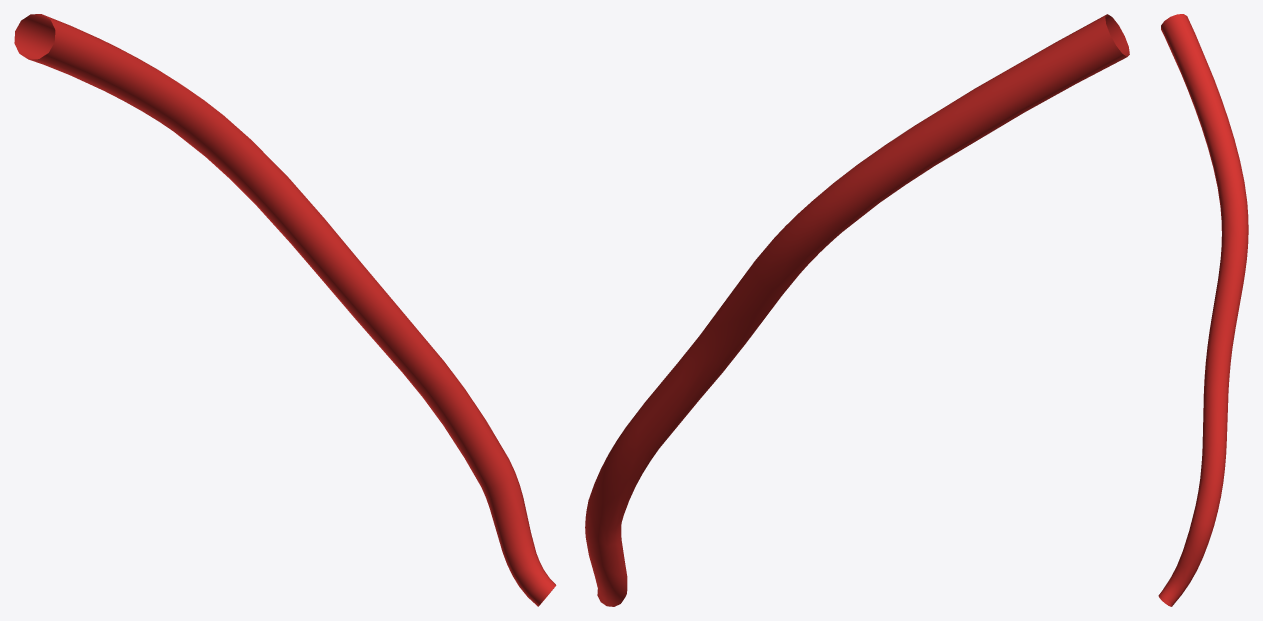
Rendered from circulatorio-lateral-tarsal-artery-l.glb.
The picture shows the model from 3 angles, left to right: view 1: azimuth 30°, elevation 25°; view 2: azimuth 150°, elevation 25°; view 3: azimuth 270°, elevation 25°; orthographic projection. The views are drawn at different scales.
Parts seen in each view (by area): view 1: Lateral tarsal artery.l; view 2: Lateral tarsal artery.l; view 3: Lateral tarsal artery.l.
Boxes of the visible parts, x1=… form: Lateral tarsal artery.l: x1=14, y1=14, x2=556, y2=606; Lateral tarsal artery.l: x1=585, y1=14, x2=1129, y2=606; Lateral tarsal artery.l: x1=1158, y1=14, x2=1248, y2=606.
Bounding box in the file's own units: 0.0386 × 0.0493 × 0.00913.
